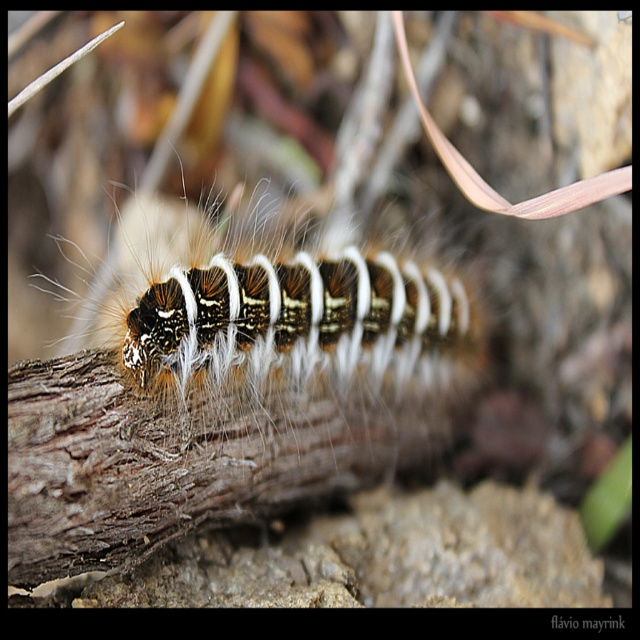Caterpillar: (30, 140, 515, 483)
